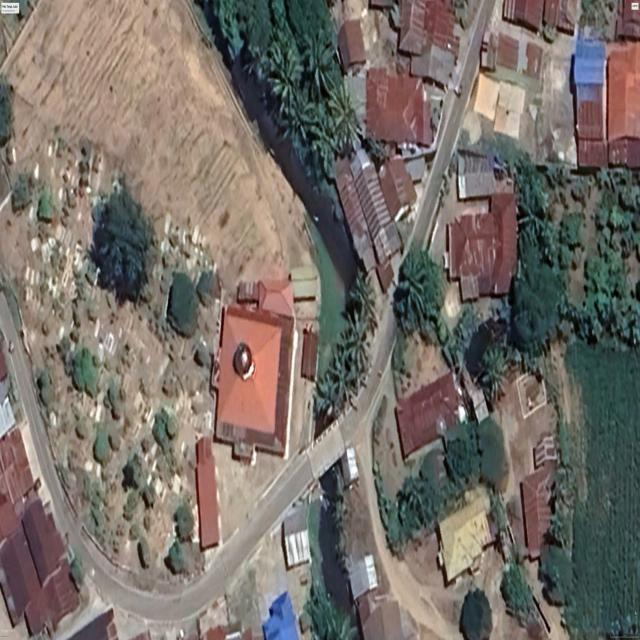Home: (571, 35, 640, 168), (444, 192, 517, 301), (350, 150, 401, 291), (396, 372, 462, 459), (437, 486, 494, 584), (398, 0, 460, 88), (364, 68, 433, 147), (348, 554, 406, 640), (336, 159, 376, 273), (0, 525, 40, 625), (22, 497, 64, 585), (24, 568, 79, 634), (521, 463, 555, 559), (0, 427, 34, 504), (42, 560, 79, 630), (379, 156, 417, 222), (457, 149, 496, 200), (283, 505, 311, 569), (262, 592, 299, 640), (503, 0, 545, 32), (0, 494, 18, 543), (341, 447, 359, 487)
mosque: (210, 278, 300, 458)
